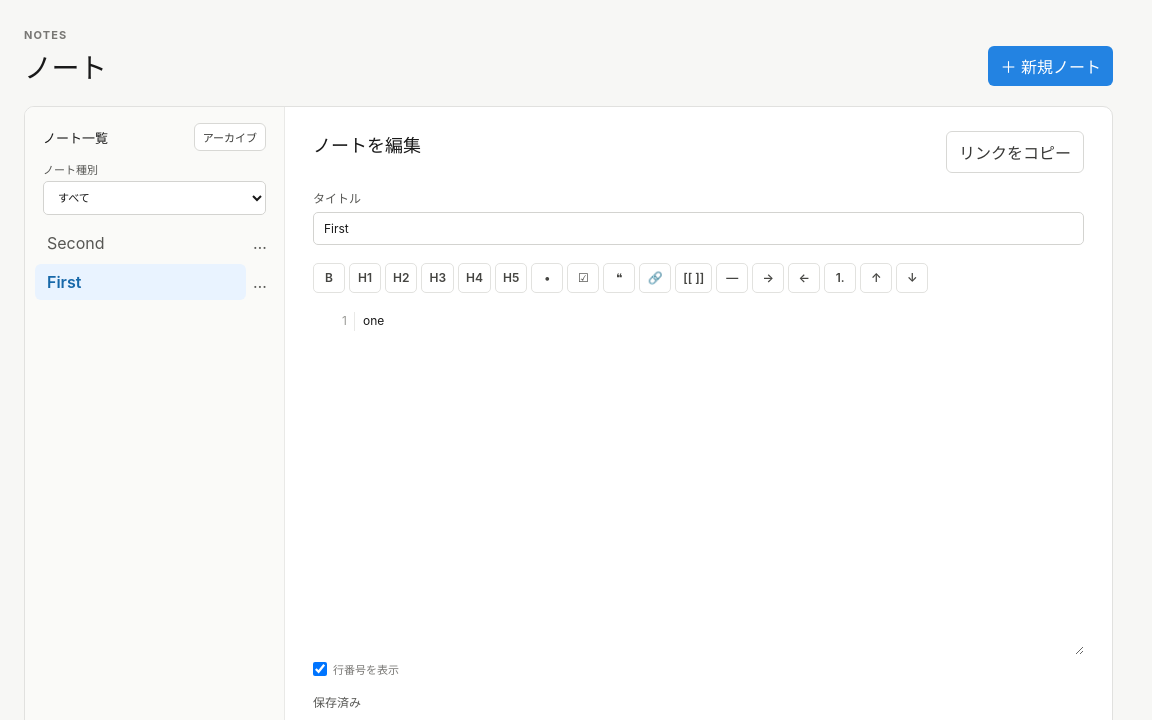
Test: NotesBoard › flushes a dirty draft before switching Notes
The image size is (1152, 720).
Step 1. Replace the text in the field named "ノートタイトル" with "Local draft" → (698, 228), box [313,212,1084,245]
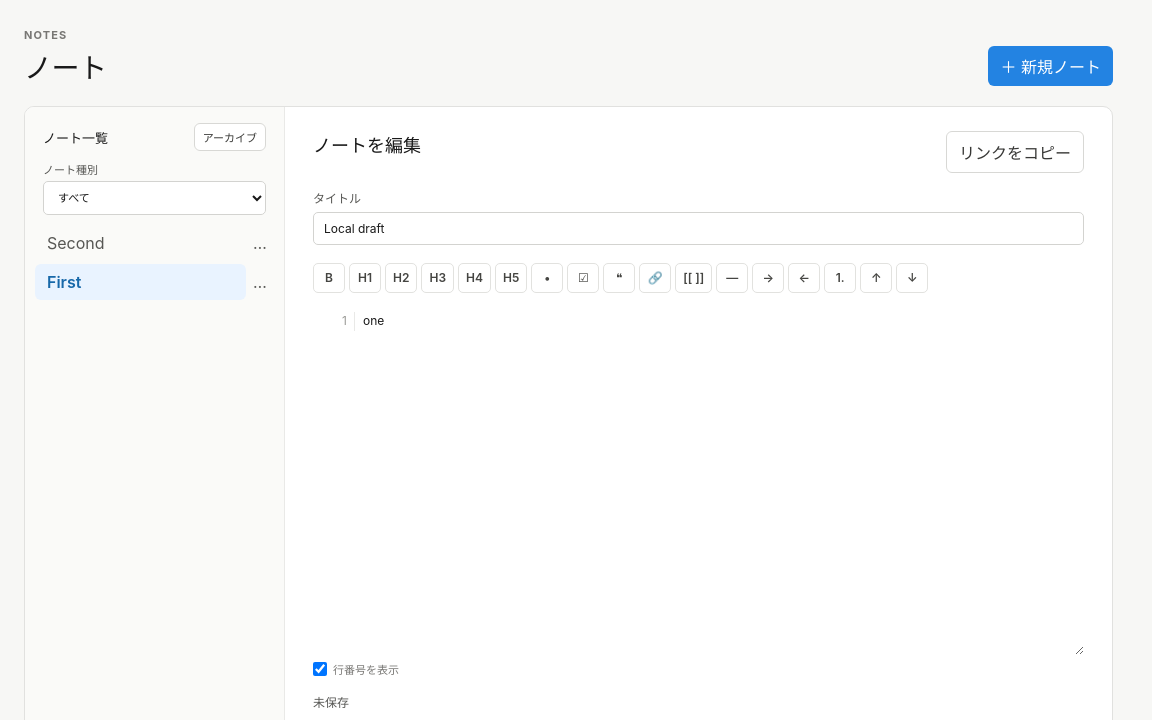
Step 2. Click the button "Second" → (140, 243), box [35,225,246,261]
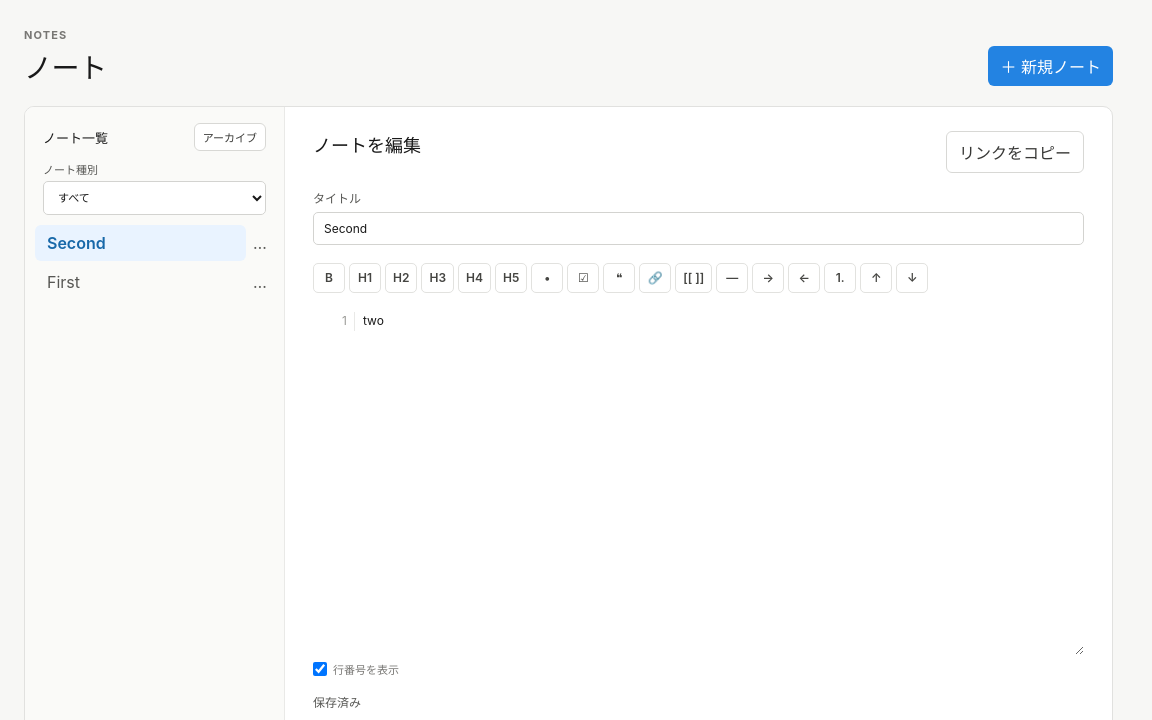
Expected: the field showing "Second" is shown, [313,212,1084,245]
